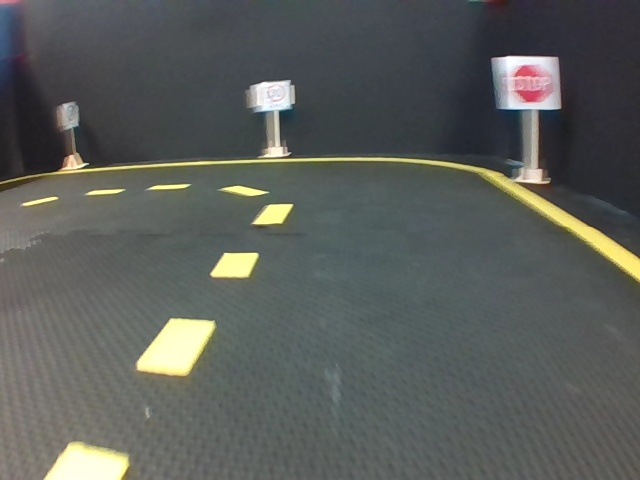30: (261, 82, 289, 110)
no30: (64, 103, 77, 126)
stop: (506, 56, 563, 109)
